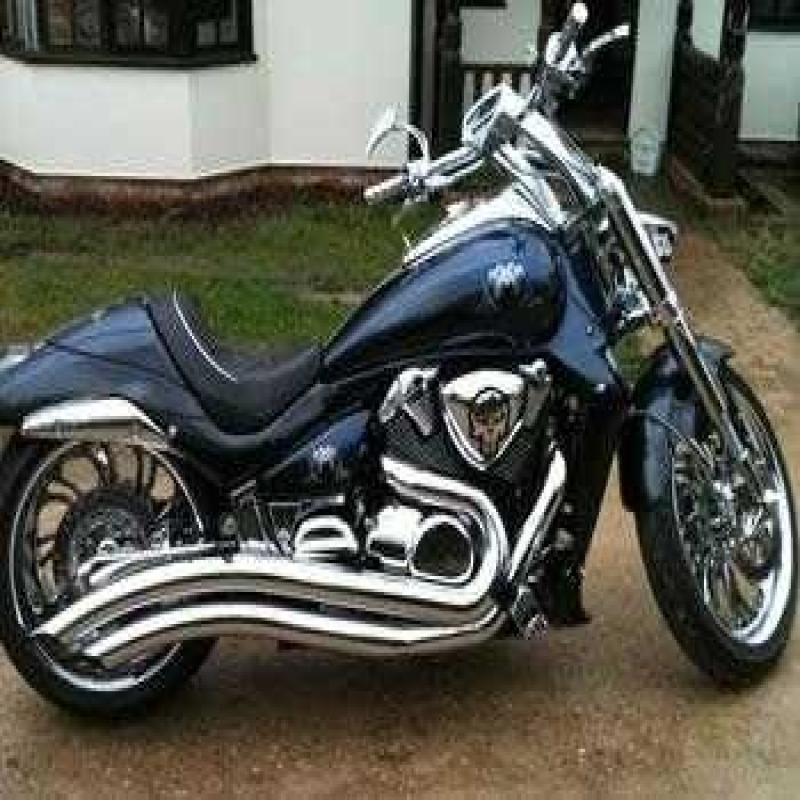bike: (6, 30, 800, 786)
